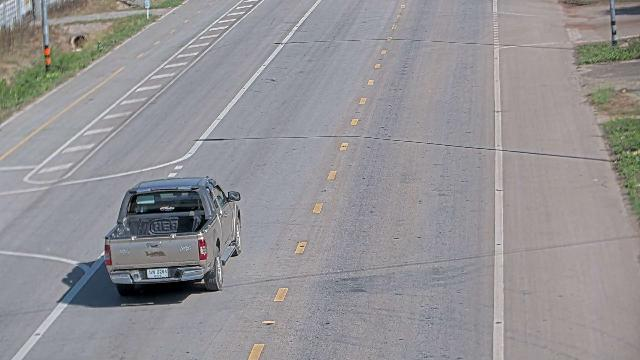pickup-truck: (103, 175, 242, 295)
